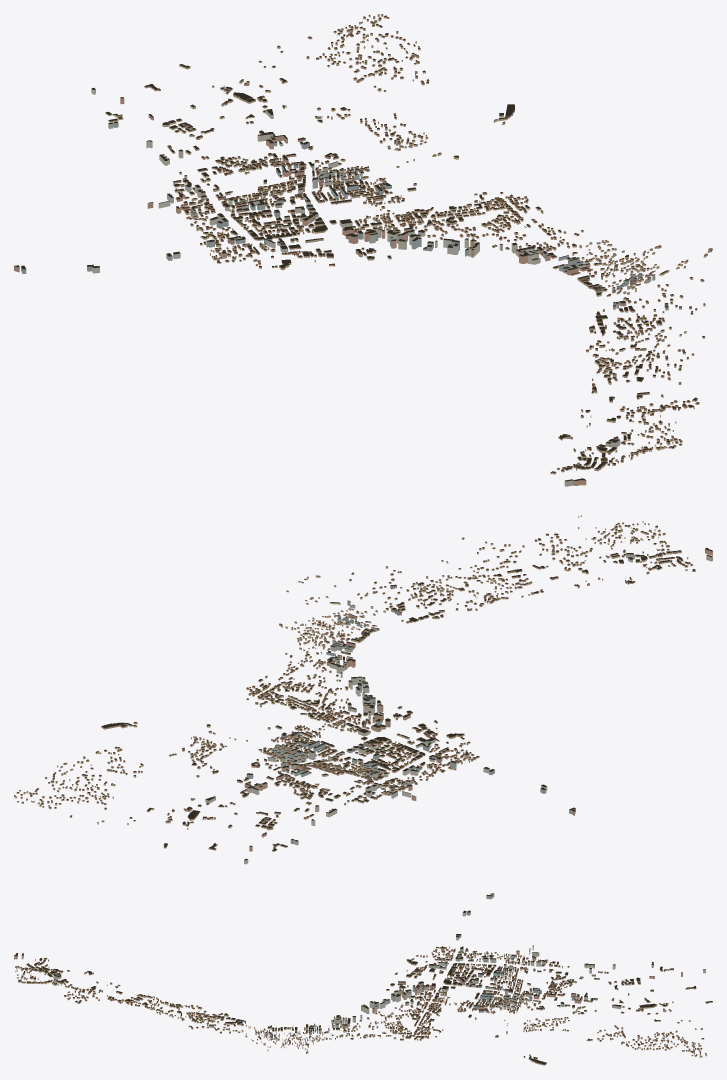
The model's file is skyline.glb.
The picture shows the model from 3 angles, top to bottom: view 1: azimuth 30°, elevation 25°; view 2: azimuth 150°, elevation 25°; view 3: azimuth 270°, elevation 25°; orthographic projection. The views are drawn at different scales.
Parts seen in each view (by area): view 1: chunk_-1_-9, chunk_-3_-8, chunk_-1_-8, chunk_-3_-7, chunk_0_-6, chunk_1_-3; view 2: chunk_-1_-9, chunk_-3_-8, chunk_-1_-6, chunk_-3_-7, chunk_-1_-8; view 3: chunk_-1_-9, chunk_-1_-6, chunk_-3_-7, chunk_-3_-8, chunk_-1_-8, chunk_0_-6, chunk_-2_-7, chunk_-4_-7, chunk_-2_-8.
Boxes of the visible parts, x1,y1,x2,y2 form: chunk_-1_-9: (281, 161, 346, 189); chunk_-3_-8: (225, 199, 282, 229); chunk_-1_-8: (311, 176, 373, 204); chunk_-3_-7: (245, 219, 304, 248); chunk_0_-6: (400, 207, 463, 231); chunk_1_-3: (519, 251, 588, 275); chunk_-1_-9: (269, 749, 323, 776); chunk_-3_-8: (358, 753, 412, 777); chunk_-1_-6: (330, 703, 378, 728); chunk_-3_-7: (379, 740, 434, 762); chunk_-1_-8: (289, 736, 336, 757); chunk_-1_-9: (504, 988, 541, 1005); chunk_-1_-6: (405, 987, 439, 1005); chunk_-3_-7: (438, 961, 472, 978); chunk_-3_-8: (471, 964, 506, 977); chunk_-1_-8: (472, 990, 505, 1006); chunk_0_-6: (405, 1004, 441, 1020); chunk_-2_-7: (438, 976, 472, 991); chunk_-4_-7: (438, 946, 473, 962); chunk_-2_-8: (470, 975, 506, 991).
Bounding box in the file's own units: 3058 × 201 × 5244.
